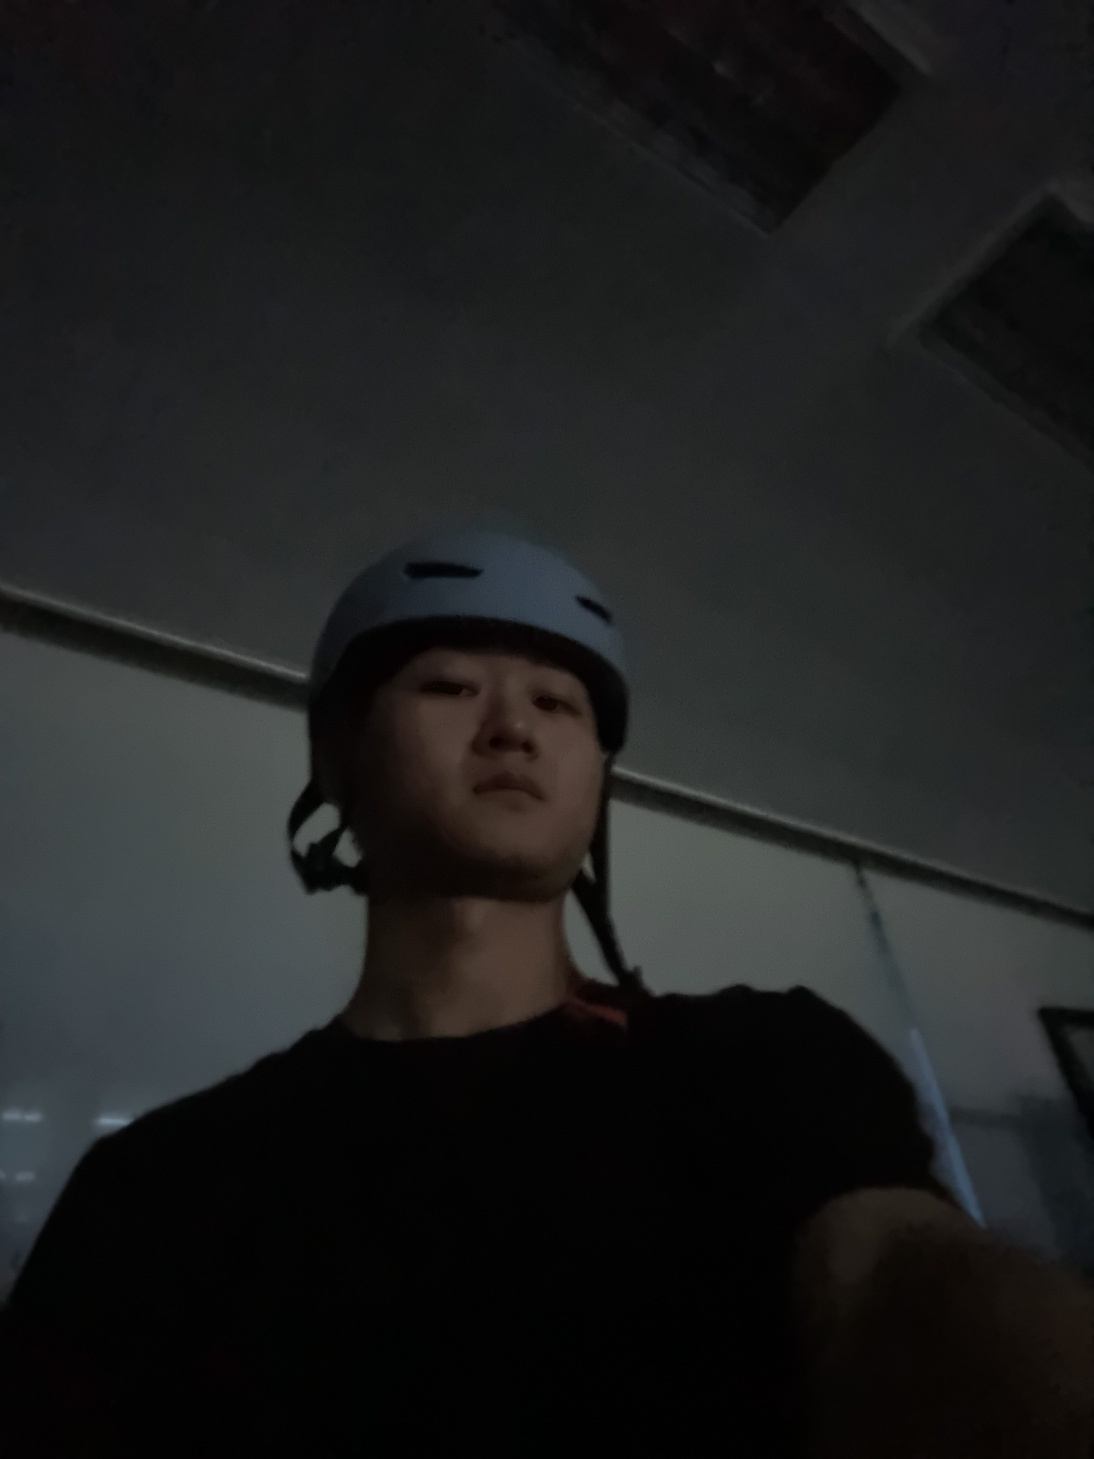Helmet: (262, 510, 667, 963)
